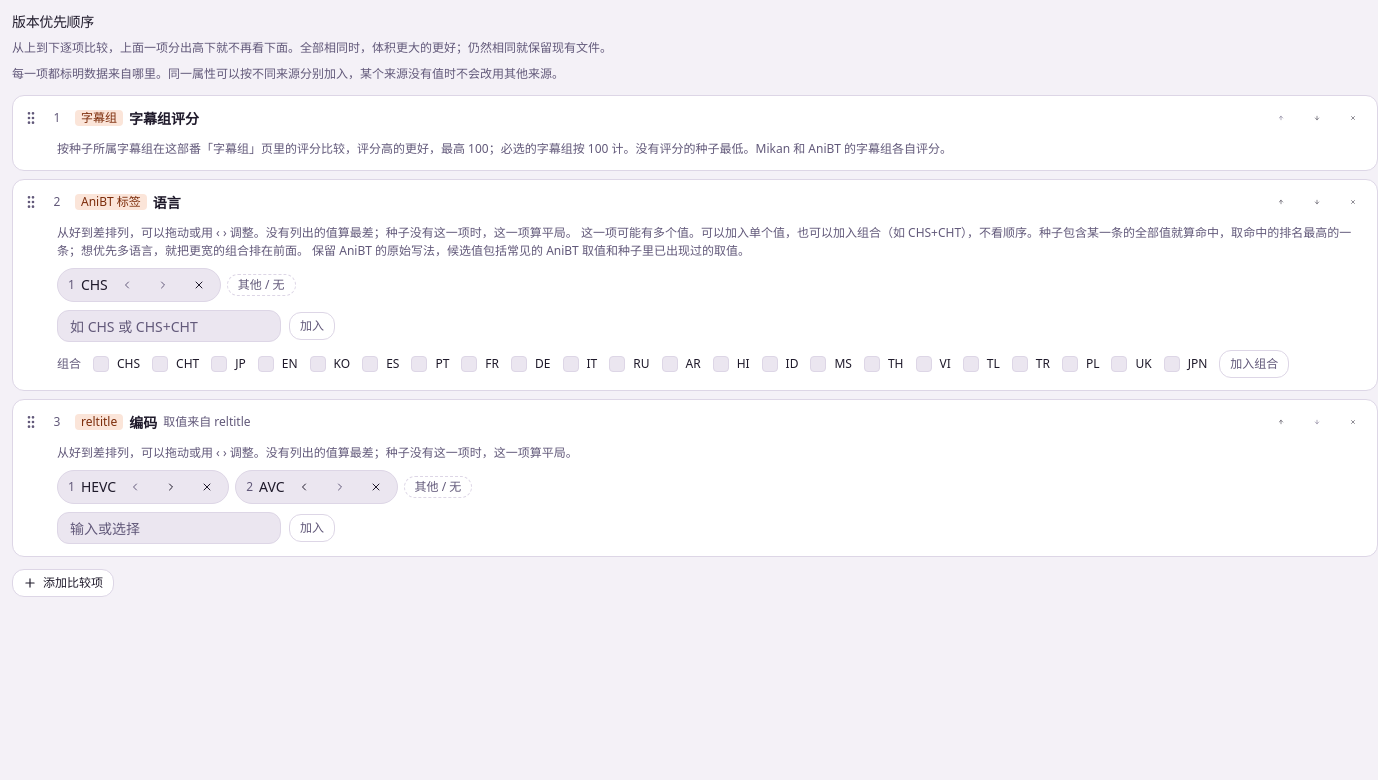
QualityCompareEditor › explains the subtitle type item when it is added
The width and height of the screenshot is (1378, 780).
Click the button "添加比较项". click: [63, 583]
box: 12,569 -> 114,597
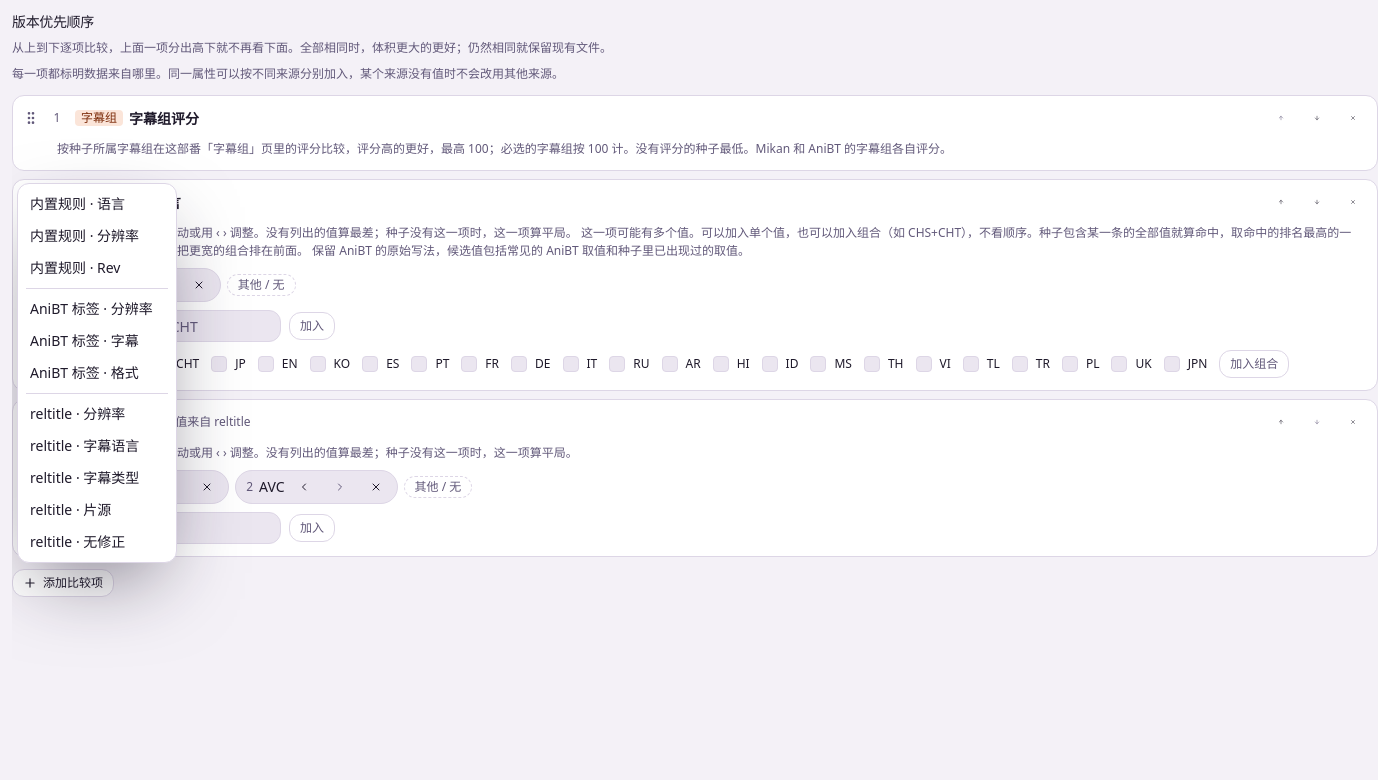
Click the menu item "reltitle · 字幕类型". click: [85, 478]
box: 30,468 -> 139,487
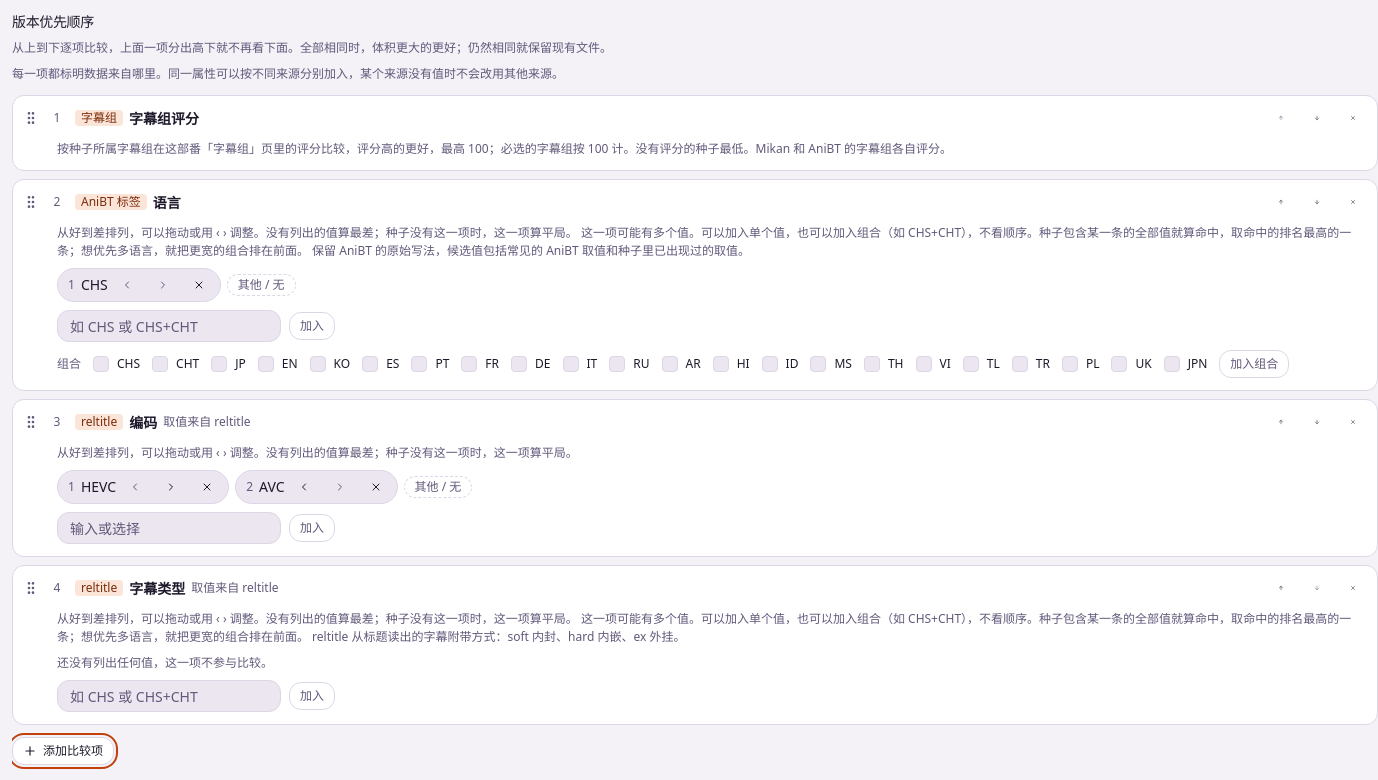
expect the text "reltitle 从标题读出的字幕附带方式：soft 内封、hard 内嵌、ex 外挂。" is shown: met, box 57,610 -> 1351,645
